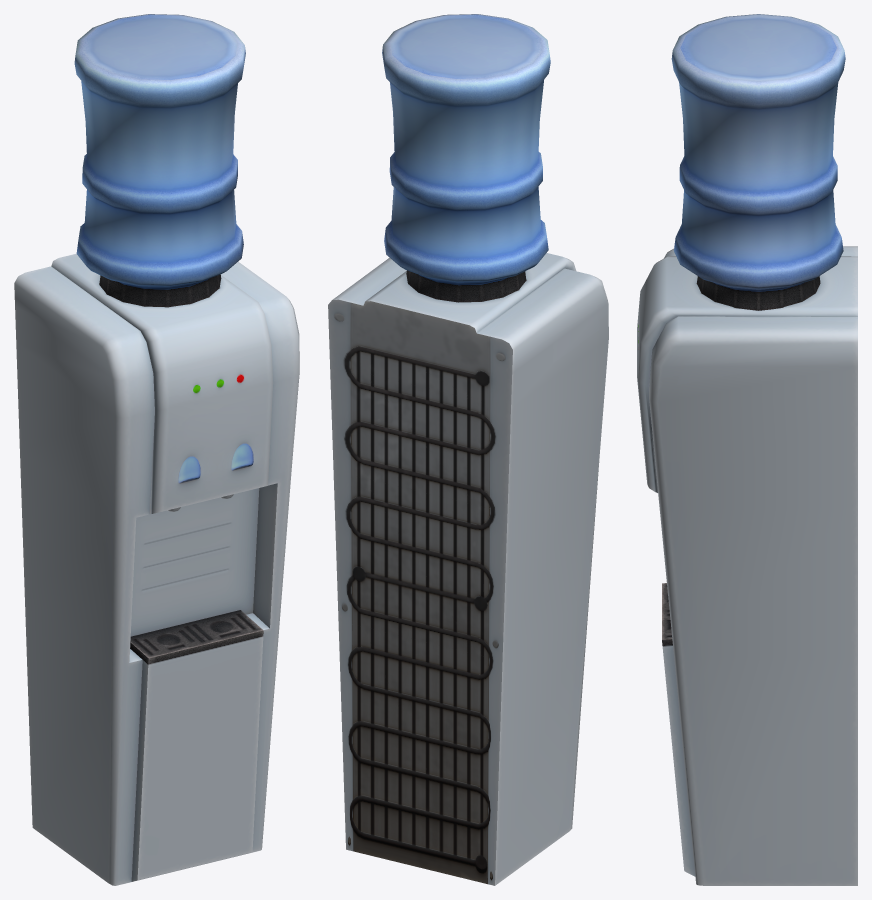
The model's file is OfficeWaterDispenser01.FBX.
The picture shows the model from 3 angles, left to right: view 1: azimuth 30°, elevation 25°; view 2: azimuth 150°, elevation 25°; view 3: azimuth 270°, elevation 25°; orthographic projection. The views are drawn at different scales.
Visible parts, largest first — view 1: OfficeWaterDispenser01; view 2: OfficeWaterDispenser01; view 3: OfficeWaterDispenser01.
Boxes of the visible parts, x1=… form: OfficeWaterDispenser01: x1=14, y1=14, x2=299, y2=885; OfficeWaterDispenser01: x1=328, y1=14, x2=608, y2=885; OfficeWaterDispenser01: x1=637, y1=14, x2=857, y2=885.
Size of what is drawn, in the model's own units: 0.5086 by 2.06 by 0.5143.
